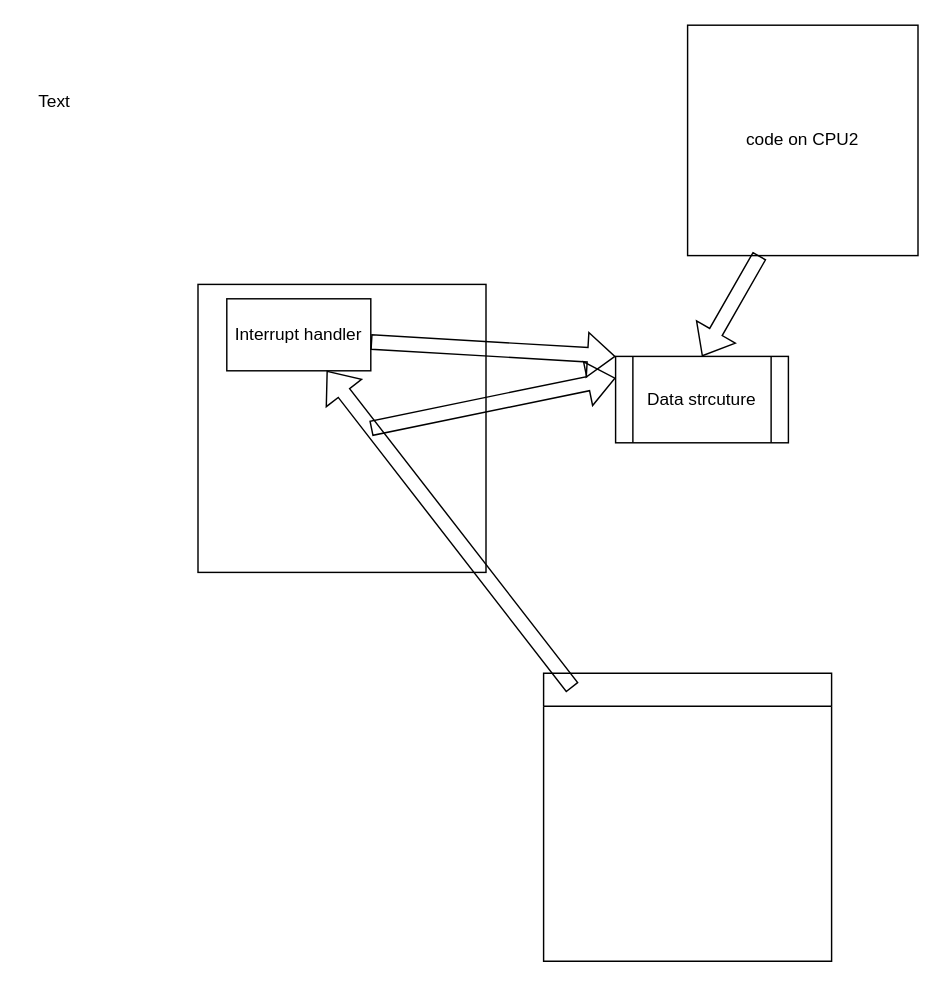
The diagram is 943 pixels wide and 986 high, and some of its shapes have lost their labels. Here are the shapes that lost their labels. From the top down, the box of each, then its label:
(197, 283, 486, 572): code on CPU1
(542, 672, 832, 961): Hardware
